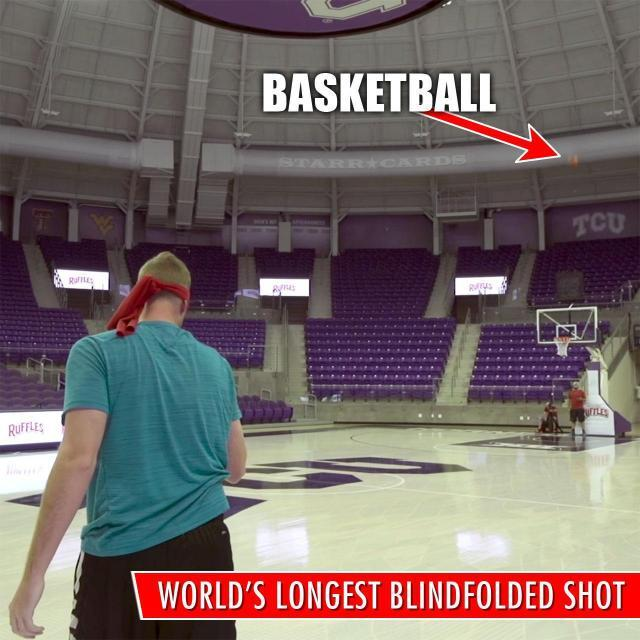Basketball: (570, 156, 580, 167)
hoop: (554, 336, 570, 357)
